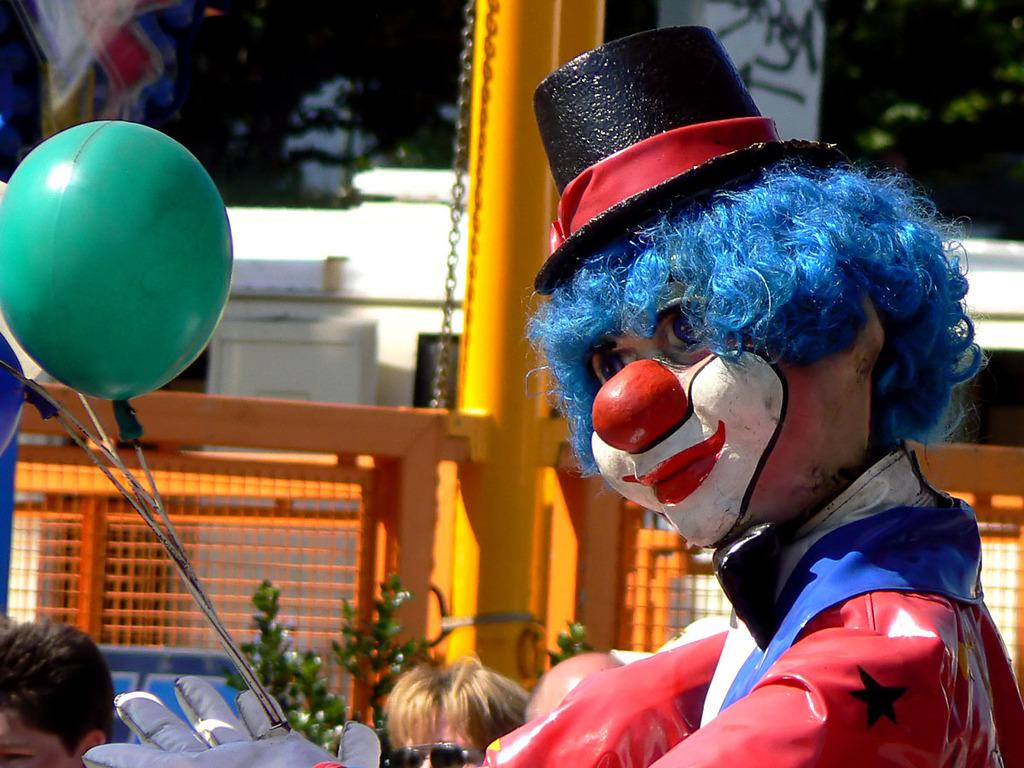Hat: (532, 21, 840, 296)
